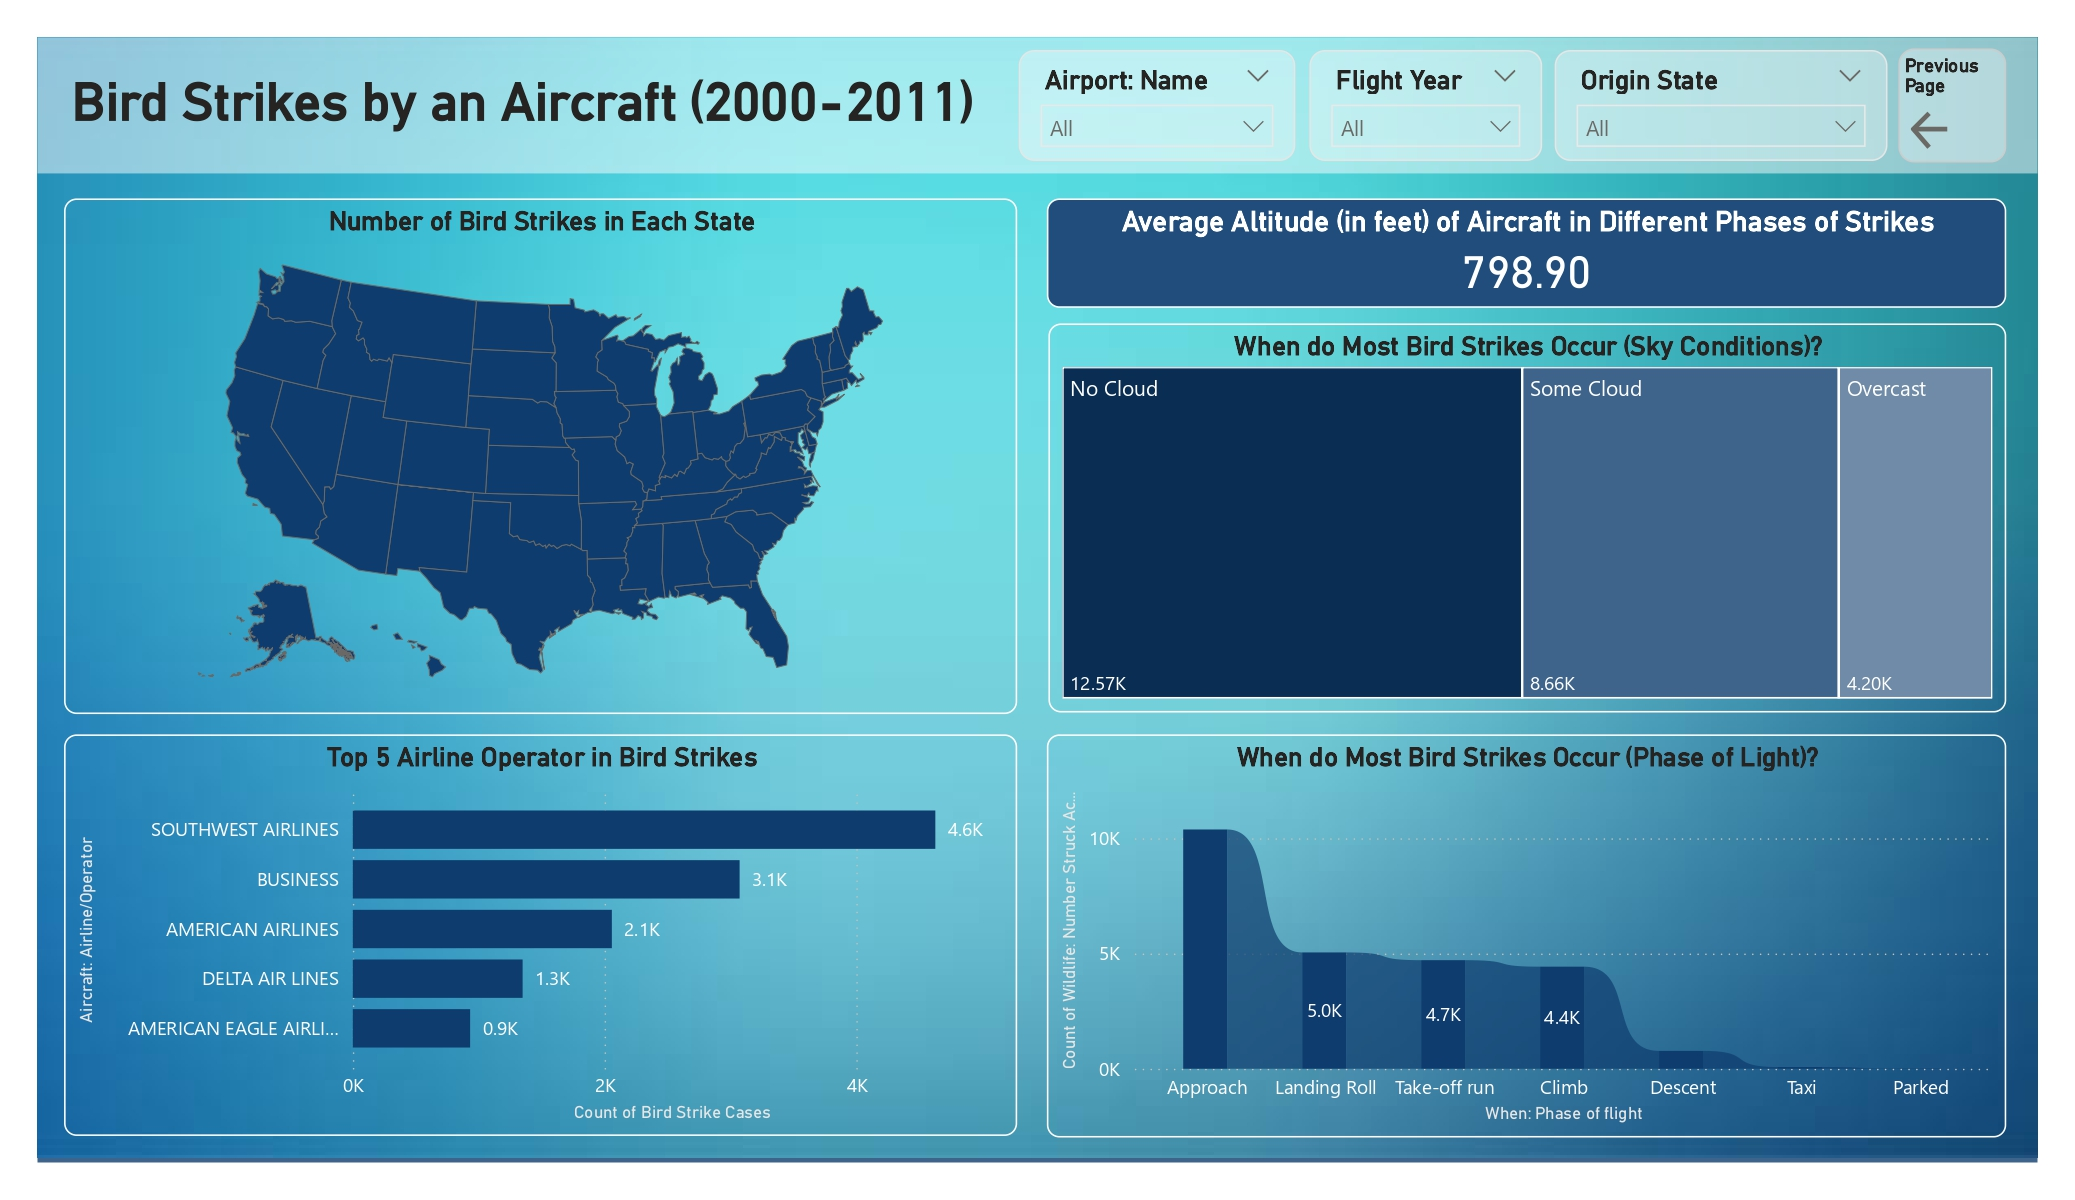

This screenshot's page, from the dashboard's own definition file:
{"tool":"powerbi","page":{"name":"Page 2","canvas":[1280,720],"ordinal":1},"visuals":[{"type":"textbox","box":[0,0,1280,87.1],"z":0},{"type":"slicer","fields":{"Values":["Bird Strikes data.FlightYear"]},"box":[813.8,7.5,148.8,71.2],"z":1000},{"type":"slicer","fields":{"Values":["Bird Strikes data.Origin State"]},"box":[971.2,7.5,212.5,71.2],"z":2000},{"type":"slicer","fields":{"Values":["Bird Strikes data.Airport: Name"]},"box":[627.5,7.5,177.5,71.2],"z":9000},{"type":"actionButton","title":"Previous Page","box":[1190.9,7.3,69.1,72.7],"z":10000},{"type":"shapeMap","title":"Number of Bird Strikes in Each State","fields":{"Value":["Sum(Bird Strikes data.Wildlife: Number Struck Actual)"],"Category":["Bird Strikes data.Origin State"]},"box":[17.1,102.9,610,330],"z":11000},{"type":"clusteredBarChart","title":"Top 5 Airline Operator in Bird Strikes","fields":{"Category":["Bird Strikes data.Aircraft: Airline/Operator"],"Y":["CountNonNull(Bird Strikes data.Wildlife: Number Struck Actual)"]},"box":[17.1,445.7,610,257.1],"z":11001},{"type":"card","title":"Average Altitude (in feet) of Aircraft in Different Phases of Strikes","fields":{"Values":["Avg(Bird Strikes data.Feet above ground)"]},"box":[646.2,102.5,613.8,70],"z":11002},{"type":"ribbonChart","title":"When do Most Bird Strikes Occur (Phase of Light)?","fields":{"Category":["Bird Strikes data.When: Phase of flight"],"Y":["CountNonNull(Bird Strikes data.Wildlife: Number Struck Actual)"]},"box":[646.2,446.2,613.8,257.5],"z":11004},{"type":"treemap","title":"When do Most Bird Strikes Occur (Sky Conditions)?","fields":{"Group":["Bird Strikes data.Conditions: Sky"],"Values":["CountNonNull(Bird Strikes data.Wildlife: Number Struck Actual)"]},"box":[646.7,183.3,613.3,248.9],"z":11005}]}

Visuals, with their boxes in screenshot pixels (x1, y1, x2, y2):
textbox: 38, 38, 2038, 174
slicer - Bird Strikes data.FlightYear: 1309, 49, 1542, 160
slicer - Bird Strikes data.Origin State: 1555, 49, 1887, 160
slicer - Bird Strikes data.Airport: Name: 1018, 49, 1295, 160
"Previous Page" actionButton: 1898, 49, 2006, 162
"Number of Bird Strikes in Each State" shapeMap: 64, 198, 1017, 714
"Top 5 Airline Operator in Bird Strikes" clusteredBarChart: 64, 734, 1017, 1136
"Average Altitude (in feet) of Aircraft in Different Phases of Strikes" card: 1047, 198, 2006, 307
"When do Most Bird Strikes Occur (Phase of Light)?" ribbonChart: 1047, 735, 2006, 1137
"When do Most Bird Strikes Occur (Sky Conditions)?" treemap: 1048, 324, 2006, 713
